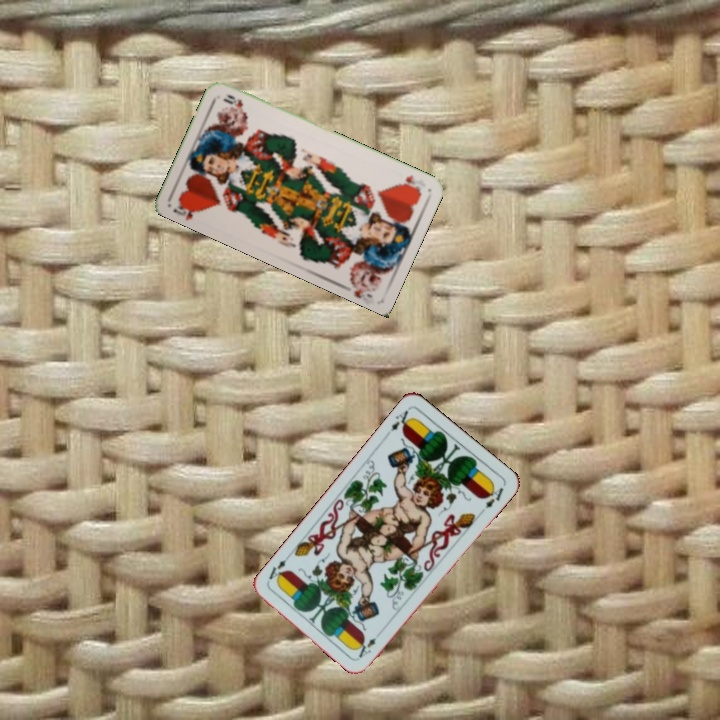EA: (386, 406, 416, 434), (354, 633, 379, 661)
HO: (169, 197, 206, 222), (394, 171, 428, 195)
